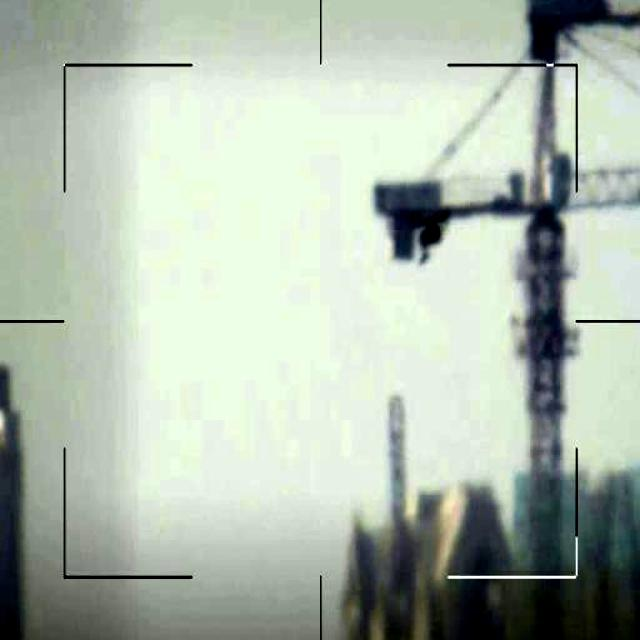bird: (411, 208, 454, 264)
